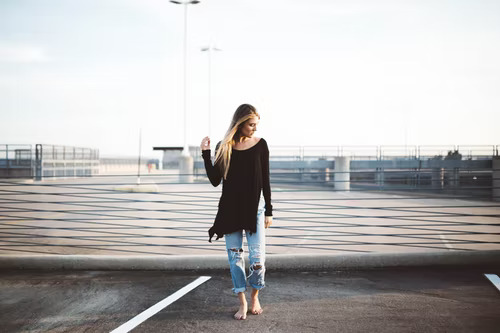person: (200, 104, 273, 319)
